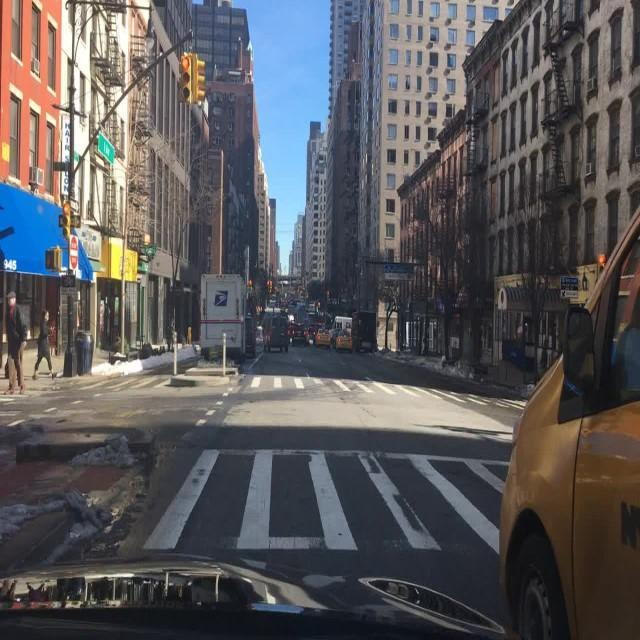normal: (200, 273, 255, 361), (315, 328, 335, 348)
